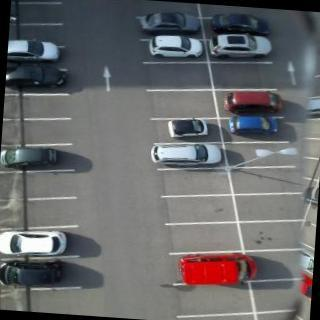car: (173, 242, 264, 292), (148, 136, 230, 174), (1, 219, 74, 261), (1, 252, 70, 294), (5, 58, 73, 98), (220, 83, 291, 118), (206, 30, 276, 64), (208, 8, 280, 39), (8, 30, 68, 66), (136, 8, 205, 37), (1, 142, 65, 173), (224, 109, 287, 140), (146, 32, 210, 62), (162, 112, 217, 142)
parking-space: (172, 270, 261, 320), (1, 190, 90, 238), (1, 161, 85, 210), (161, 215, 250, 261), (157, 188, 245, 233), (154, 160, 238, 204), (1, 274, 89, 316), (222, 159, 306, 202), (1, 110, 79, 155), (145, 83, 223, 126), (141, 55, 219, 98), (227, 186, 303, 229), (218, 136, 302, 174), (204, 55, 283, 95), (234, 214, 302, 257), (3, 86, 74, 127), (8, 14, 73, 54), (10, 1, 72, 31)
